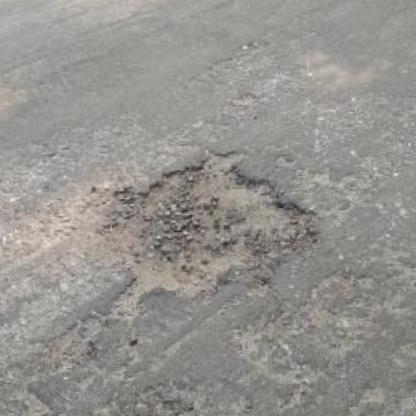pothole: (78, 145, 322, 303)
